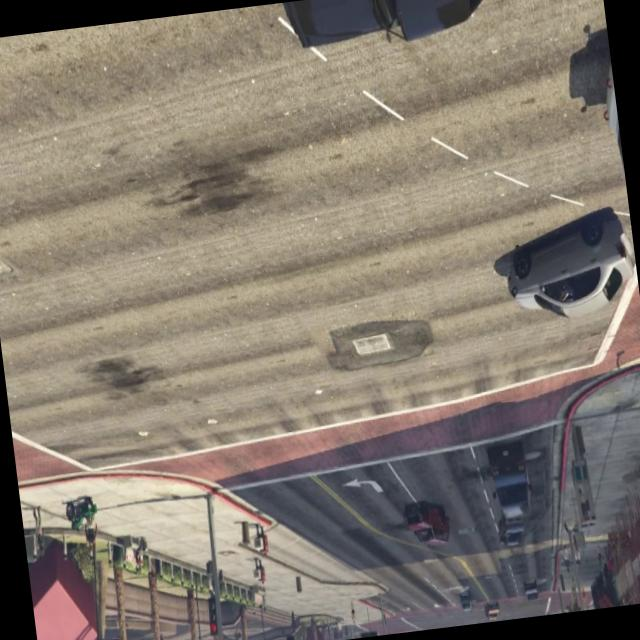Red-Signal: (204, 594, 222, 640), (357, 624, 379, 638), (280, 630, 297, 640)
